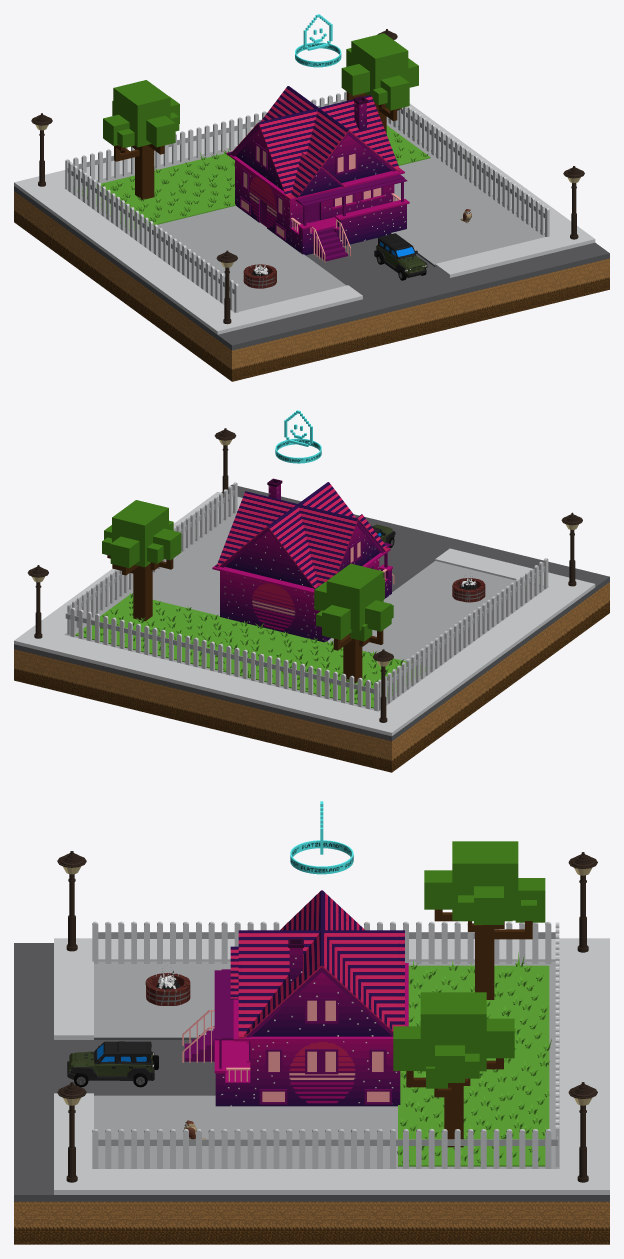
The picture shows the model from 3 angles, top to bottom: view 1: azimuth 30°, elevation 25°; view 2: azimuth 150°, elevation 25°; view 3: azimuth 270°, elevation 25°; orthographic projection. The views are drawn at different scales.
Parts seen in each view (by area): view 1: Cube.004, Cube.156, VEHICLES_JEEP, TYPE_PREMIUM, OBJRANDOM_CAMPFIRE; view 2: Cube.004, Cube.156, TYPE_PREMIUM, OBJRANDOM_CAMPFIRE; view 3: Cube.004, Cube.156, VEHICLES_JEEP, OBJRANDOM_CAMPFIRE, TYPE_PREMIUM.
Boxes of the visible parts, x1,y1,x2,y2 form: Cube.004: (14,29,609,381); Cube.156: (226,86,409,262); VEHICLES_JEEP: (374,233,427,280); TYPE_PREMIUM: (295,14,341,67); OBJRANDOM_CAMPFIRE: (243,262,276,288); Cube.004: (14,428,609,772); Cube.156: (212,478,394,642); TYPE_PREMIUM: (275,410,321,463); OBJRANDOM_CAMPFIRE: (452,577,485,602); Cube.004: (14,841,609,1244); Cube.156: (182,890,408,1106); VEHICLES_JEEP: (67,1041,158,1087); OBJRANDOM_CAMPFIRE: (145,971,190,1005); TYPE_PREMIUM: (290,801,353,874).
Bounding box in the file's own units: 4000 × 2475 × 4000.
Materials: 35 (6 with a texture image).
